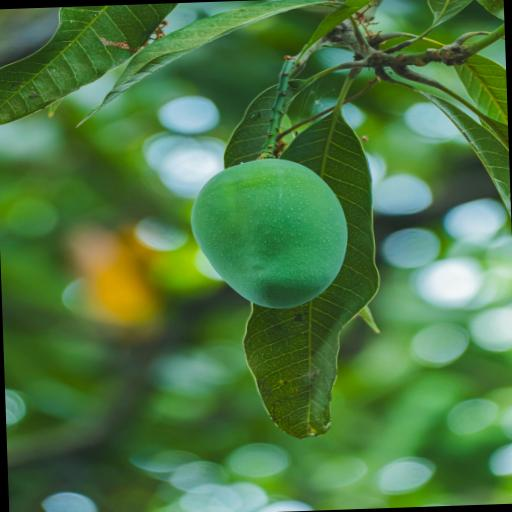Mango-Detection: (125, 112, 397, 350)
